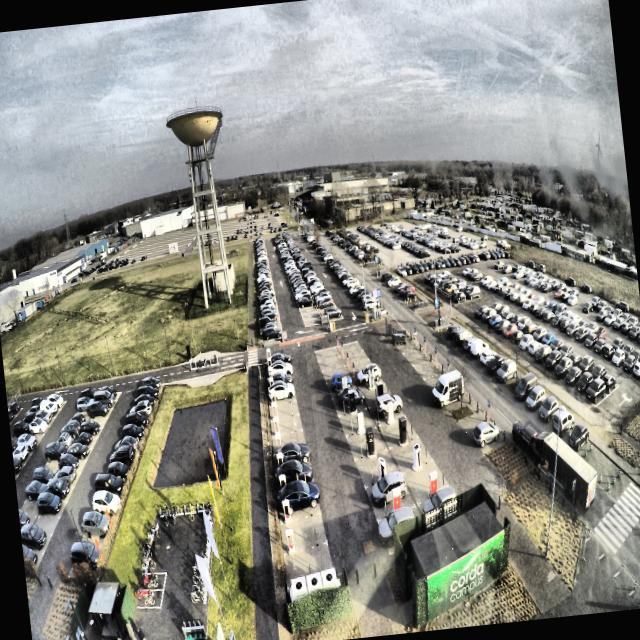cabinet: (291, 567, 336, 594)
car: (278, 479, 321, 514), (275, 460, 313, 487), (275, 441, 312, 467), (267, 380, 294, 402), (267, 359, 293, 375), (265, 372, 293, 385), (269, 351, 291, 365)
parking: (284, 541, 334, 589), (281, 512, 326, 554), (278, 487, 320, 523), (276, 465, 315, 497), (273, 446, 310, 475), (271, 429, 305, 454), (271, 414, 302, 437), (268, 385, 295, 407), (269, 400, 298, 420), (266, 373, 292, 393), (264, 356, 289, 371), (266, 364, 290, 378)
supercharger: (284, 529, 296, 553), (282, 500, 291, 522), (276, 452, 284, 469), (279, 474, 287, 490), (274, 435, 282, 451), (273, 418, 280, 436), (271, 403, 278, 418), (270, 389, 277, 403), (268, 378, 274, 389), (267, 366, 272, 376), (266, 348, 271, 358), (267, 358, 272, 368)
